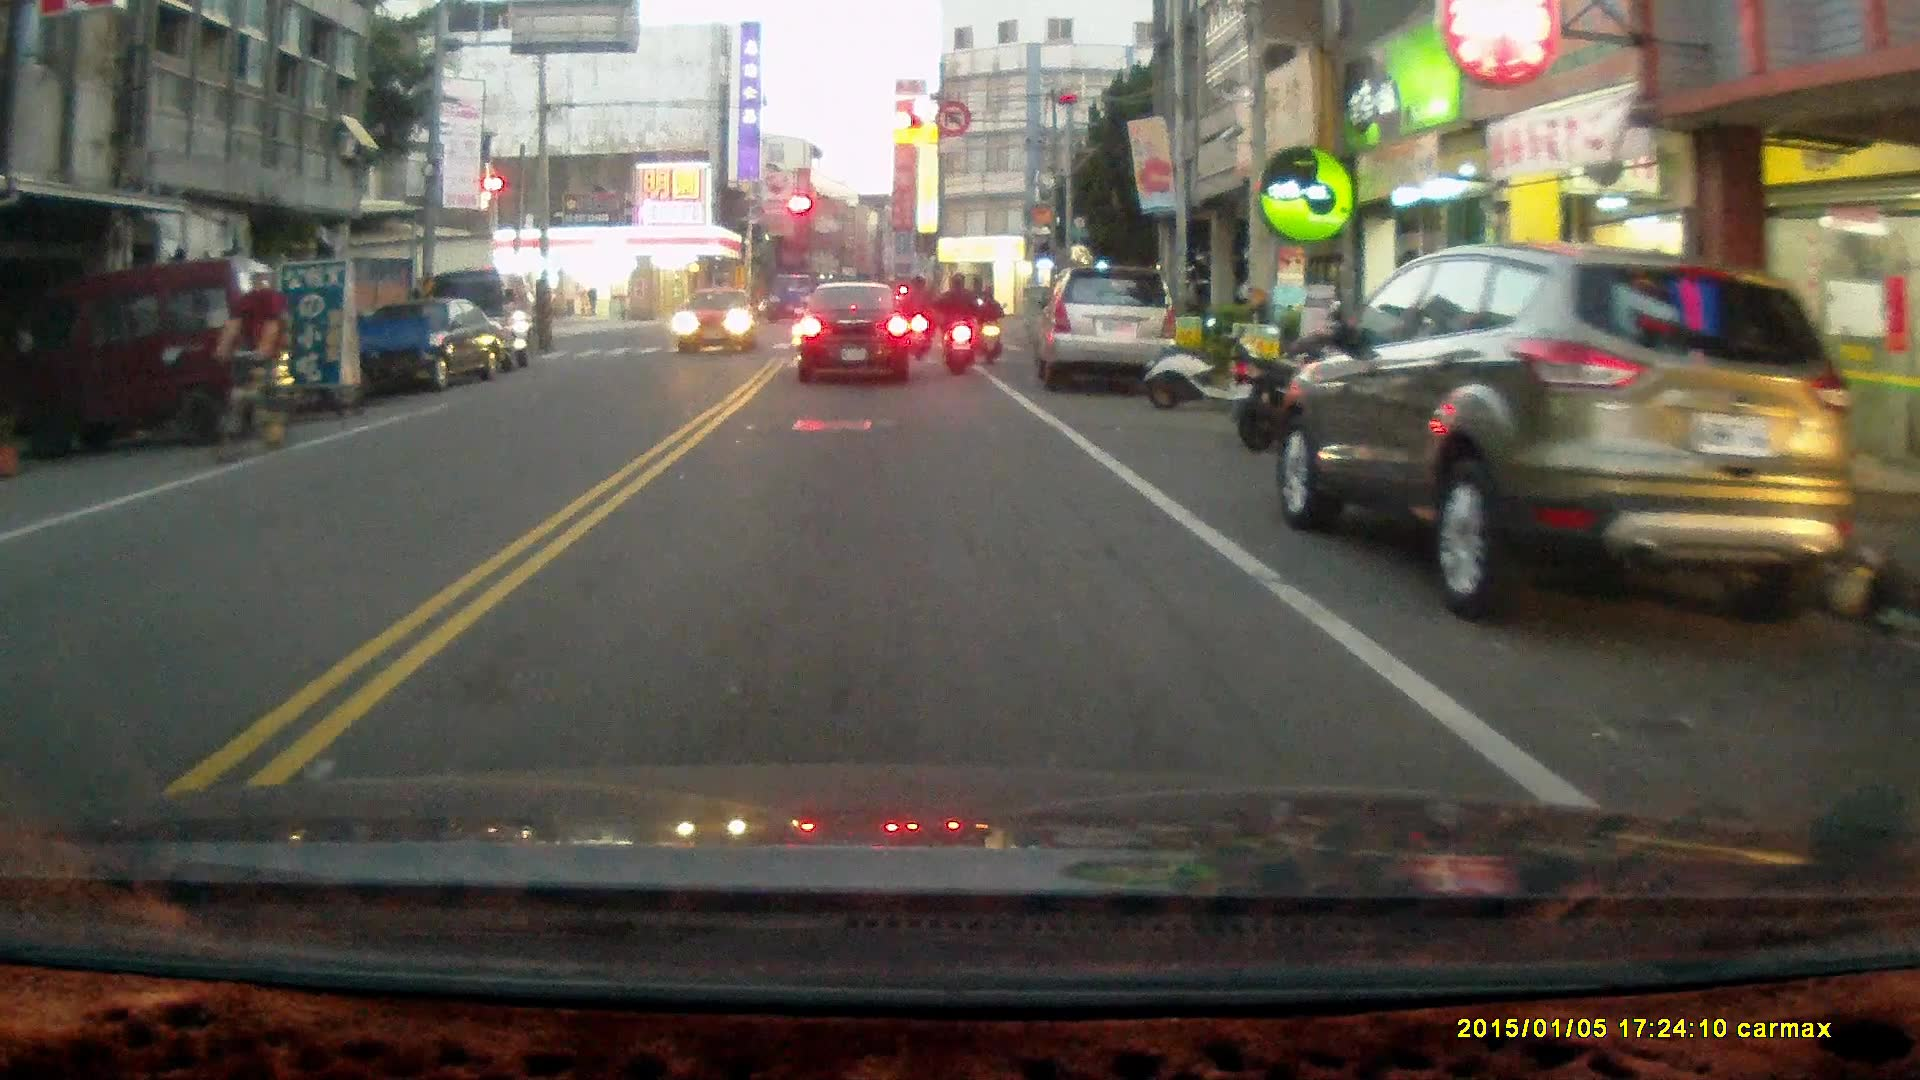rider: (207, 259, 295, 468), (936, 271, 985, 378), (898, 273, 934, 364), (975, 283, 1006, 366)
vehicle: (1282, 241, 1860, 625), (9, 259, 294, 451), (1034, 265, 1183, 398), (356, 296, 507, 394), (801, 281, 919, 389), (680, 286, 763, 357)
